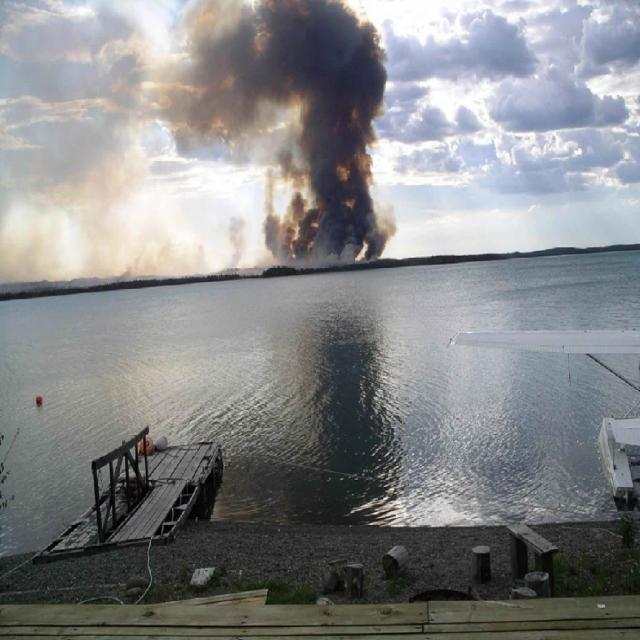Fire: (6, 200, 204, 280)
